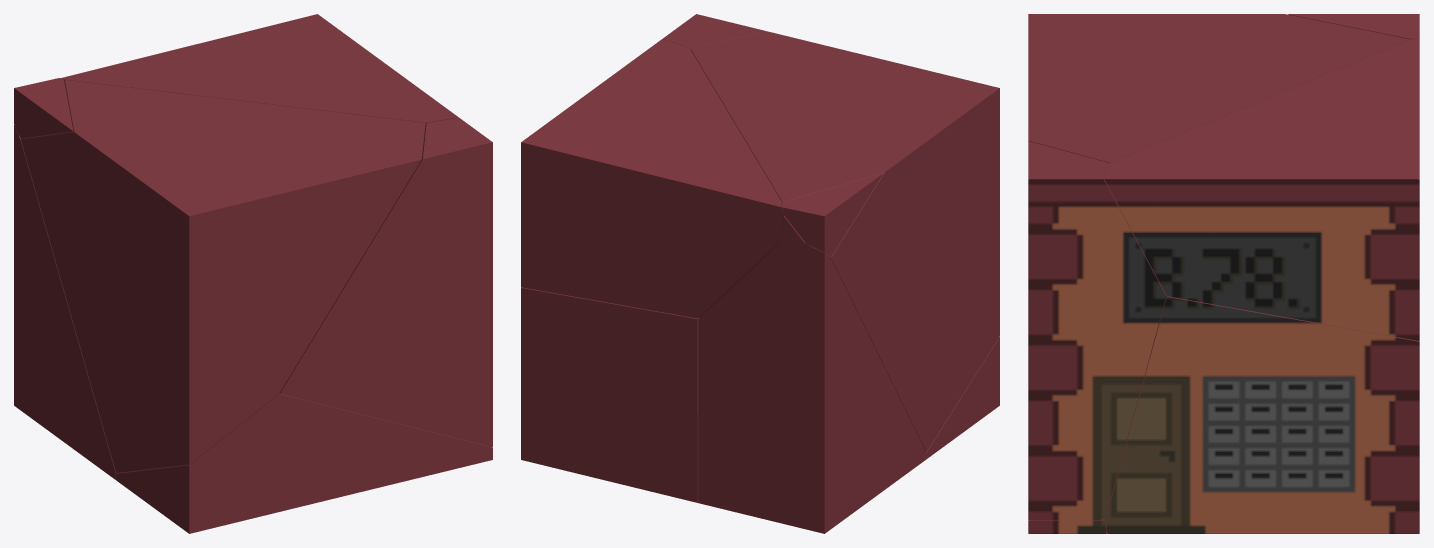
The model's file is BrickBuildingRed_2_128x128_Ground02_break.fbx.
The picture shows the model from 3 angles, left to right: view 1: azimuth 30°, elevation 25°; view 2: azimuth 150°, elevation 25°; view 3: azimuth 270°, elevation 25°; orthographic projection. The views are drawn at different scales.
Parts seen in each view (by area): view 1: Ground02Break01, Ground02Break03, Ground02Break02, Ground02Break05, Ground02Break04, Ground02Break06; view 2: Ground02Break01, Ground02Break05, Ground02Break04, Ground02Break07, Ground02Break06, Ground02Break02, Ground02Break03; view 3: Ground02Break05, Ground02Break07, Ground02Break03, Ground02Break01, Ground02Break06, Ground02Break02.
Part boxes in pixels (x1,y1,x2,y2): Ground02Break01: (21,80,425,472); Ground02Break03: (280,117,492,447); Ground02Break02: (116,393,492,533); Ground02Break05: (59,14,458,123); Ground02Break04: (14,125,116,479); Ground02Break06: (14,78,73,138); Ground02Break01: (690,31,999,451); Ground02Break05: (521,39,783,318); Ground02Break04: (698,242,926,533); Ground02Break07: (521,287,699,502); Ground02Break06: (782,173,883,257); Ground02Break02: (926,337,999,459); Ground02Break03: (663,14,766,48); Ground02Break05: (1104,38,1419,340); Ground02Break07: (1105,296,1419,533); Ground02Break03: (1028,141,1166,519); Ground02Break01: (1028,14,1409,343); Ground02Break06: (1288,14,1419,39); Ground02Break02: (1028,344,1153,533).
Size of the model in its own units: 100 by 100 by 100.
Materials: 1 (1 with a texture image).
